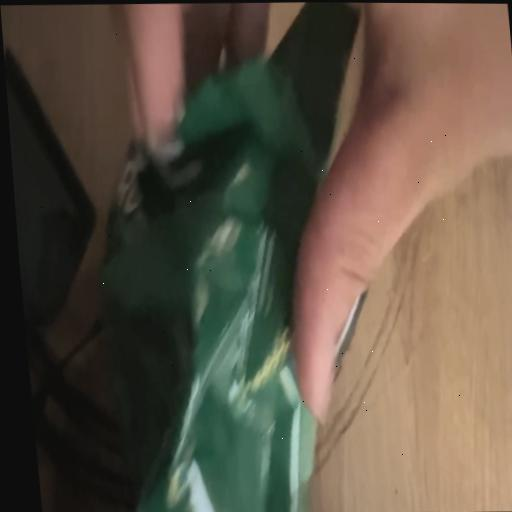cafe_xay: (104, 2, 356, 512)
